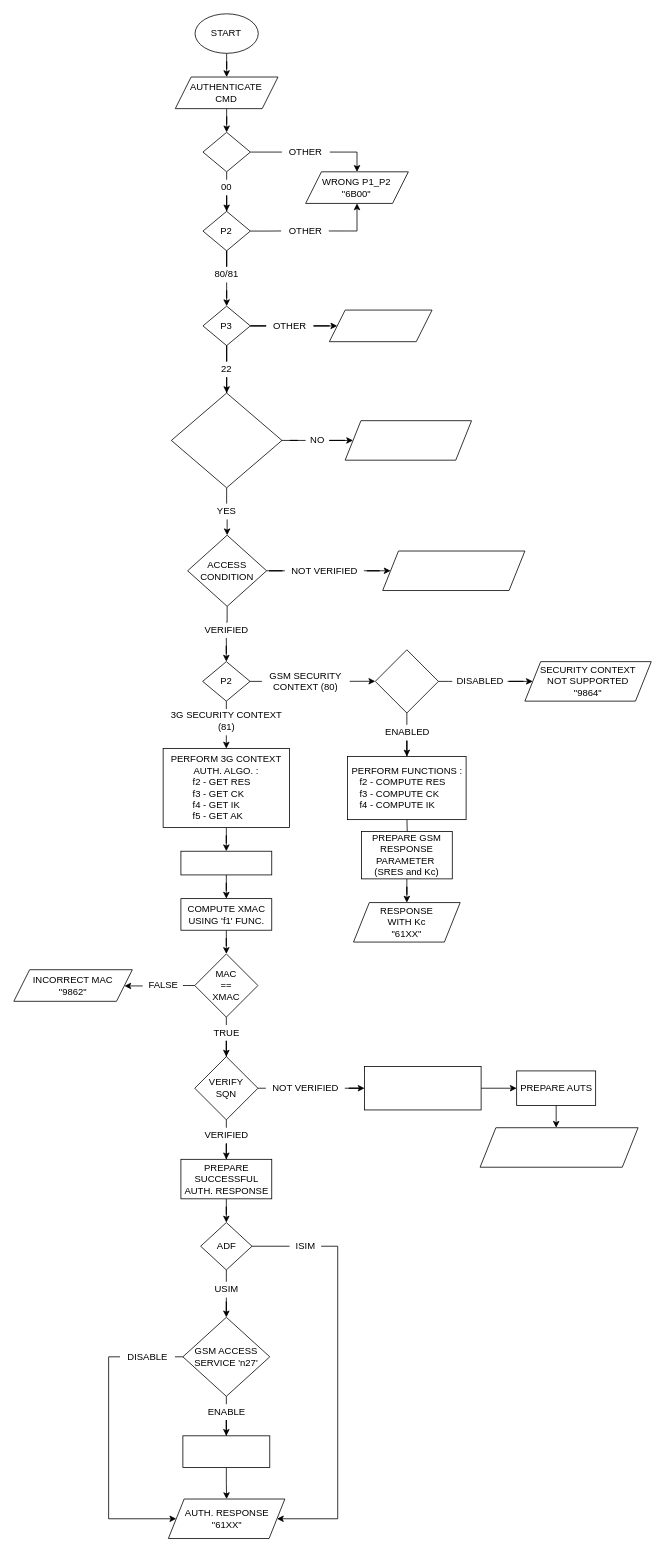
This 665x1552 diagram has some shape labels left out. The shapes that lost their labels are listed below. From the top down, each one's centre as x and y in pixels, then its label:
point (226, 152): P1
point (380, 325): WRONG P3 "67XX"
point (226, 440): CURRENT ADF == CURRENT DF
point (408, 440): CONDITION OF USE NOT SATISFIED "6985"
point (453, 570): SECURITY CONDITION NOT SATISFIED "6982"
point (406, 681): SERVICE n°38
point (226, 862): CALCULATE SQN
point (422, 1088): PERFORM FUNCTIONS : f1* - COMPUTE MAC* f5* - COMPUTE AK*
point (558, 1147): SYNCHRONISATION FAILURE "RETURN AUTS (61XX)"
point (226, 1451): APPEND Kc WITH RESPONSE
